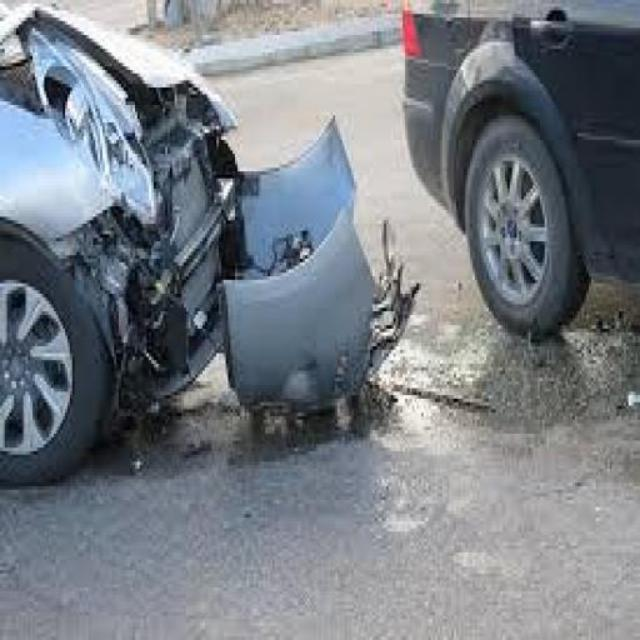dislocated part: (0, 12, 414, 422)
